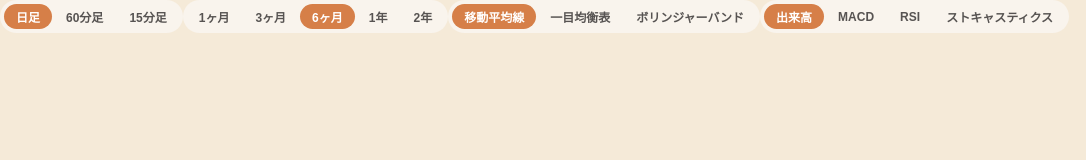
Test: PriceChart › 分足へ切り替えるとその足種で選べない期間ボタンが消え、選べる期間へ丸める
The image size is (1086, 160).
Click the button "15分足": [148, 16] box top-left (117, 4), bottom-right (179, 29)
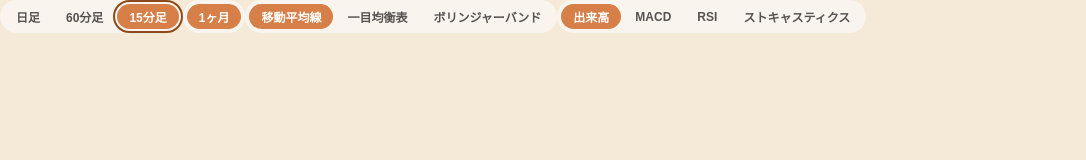
expect the button "6ヶ月" is gone: met
